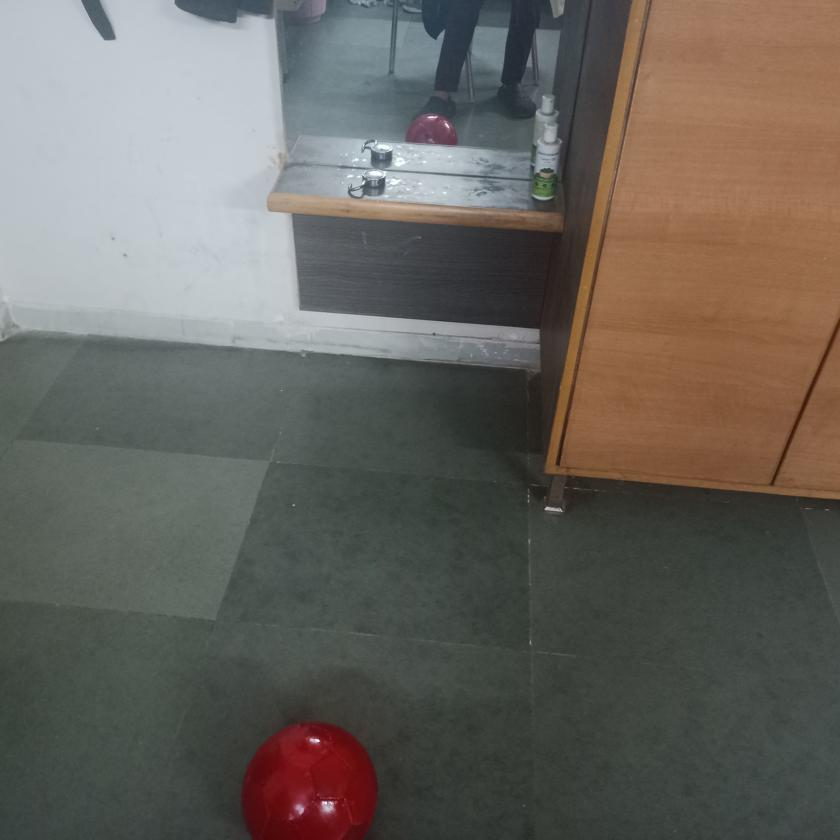Red_Ball: (198, 719, 406, 839)
